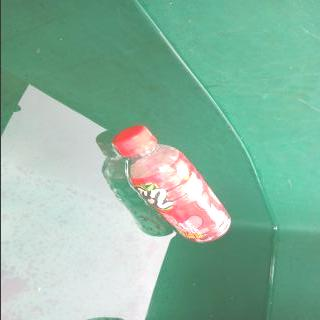bottle: (111, 124, 232, 244)
